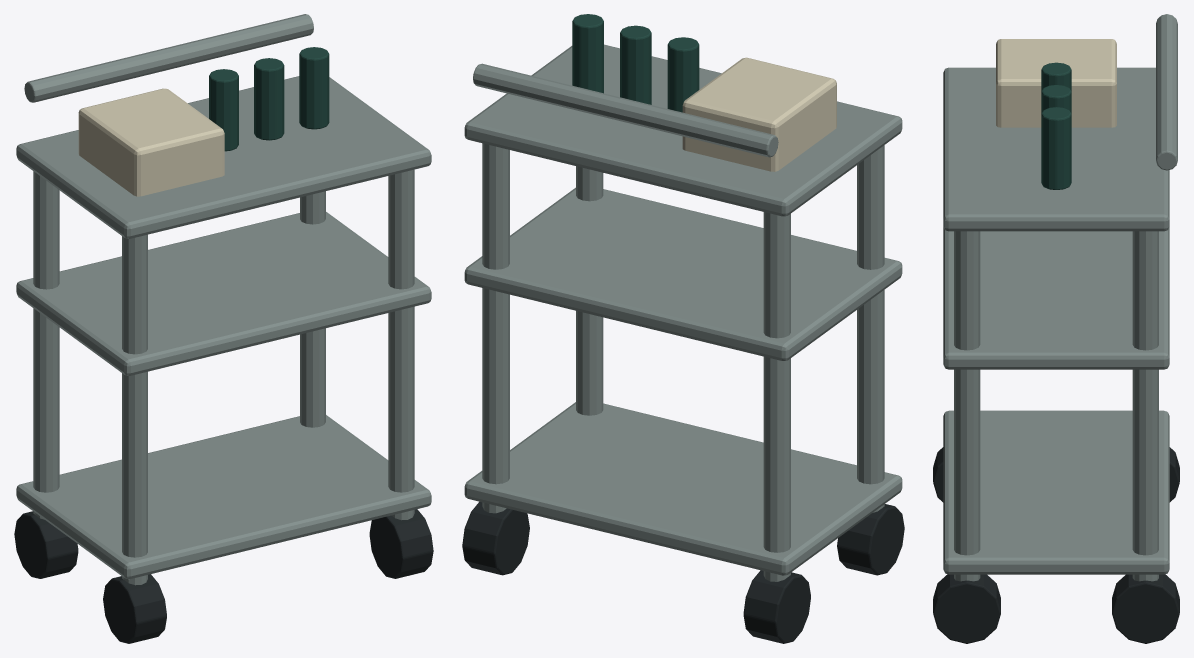
Rendered from H_MedicalCart.fbx.
3 views of the same model, side by side, from view 1: azimuth 30°, elevation 25°; view 2: azimuth 150°, elevation 25°; view 3: azimuth 270°, elevation 25° (orthographic). The views are drawn at different scales.
Visible parts, largest first — view 1: H_MedicalCart; view 2: H_MedicalCart; view 3: H_MedicalCart.
Part boxes in pixels (x1,y1,x2,y2): H_MedicalCart: (14,14,433,643); H_MedicalCart: (462,14,904,643); H_MedicalCart: (933,14,1179,643).
Size of the model in its own units: 0.68 by 1.05 by 0.4691.
